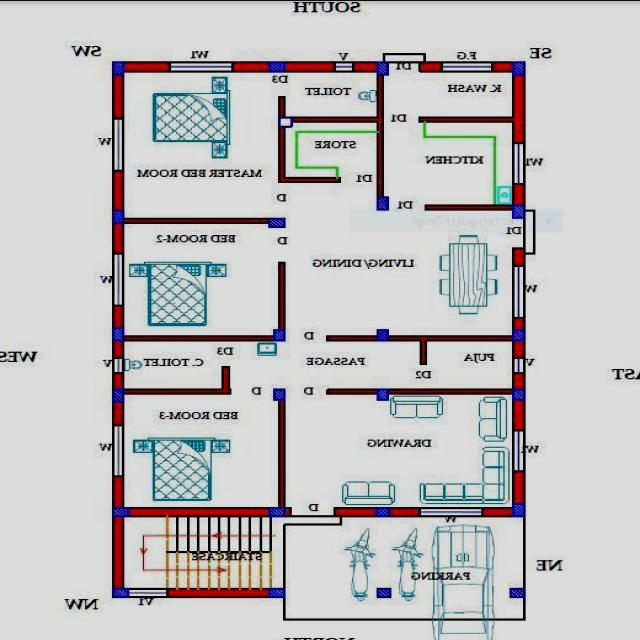column: (374, 194, 392, 214), (506, 584, 528, 600), (509, 59, 527, 78), (110, 59, 128, 78), (110, 208, 128, 226), (510, 202, 528, 220), (110, 386, 128, 404), (266, 60, 288, 74), (266, 216, 288, 230), (110, 504, 132, 518), (110, 586, 132, 600), (374, 60, 391, 78), (111, 325, 127, 344), (372, 504, 392, 519), (270, 327, 288, 343), (374, 386, 392, 402), (264, 506, 288, 518), (268, 586, 288, 600), (374, 586, 394, 600), (511, 502, 528, 518), (510, 328, 528, 343), (374, 328, 392, 343), (510, 387, 528, 402), (272, 387, 288, 401)
